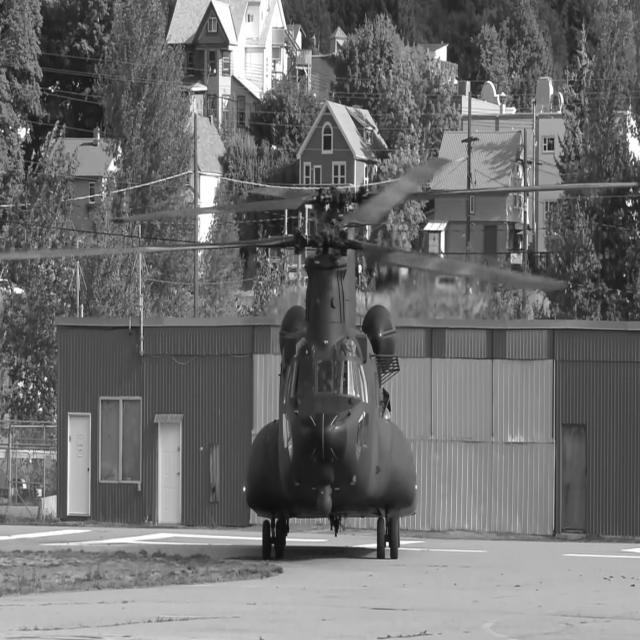Helicopter: (245, 252, 419, 558)
